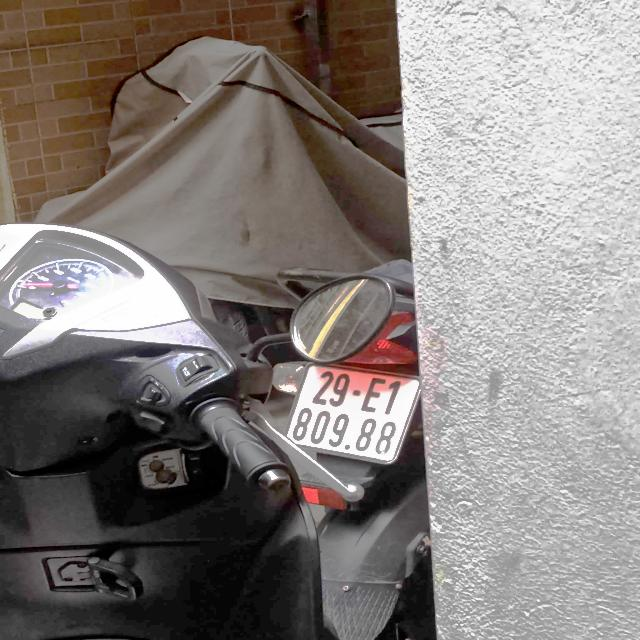license_plate: (286, 364, 433, 466)
